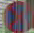No Stopping: (3, 0, 33, 31)
